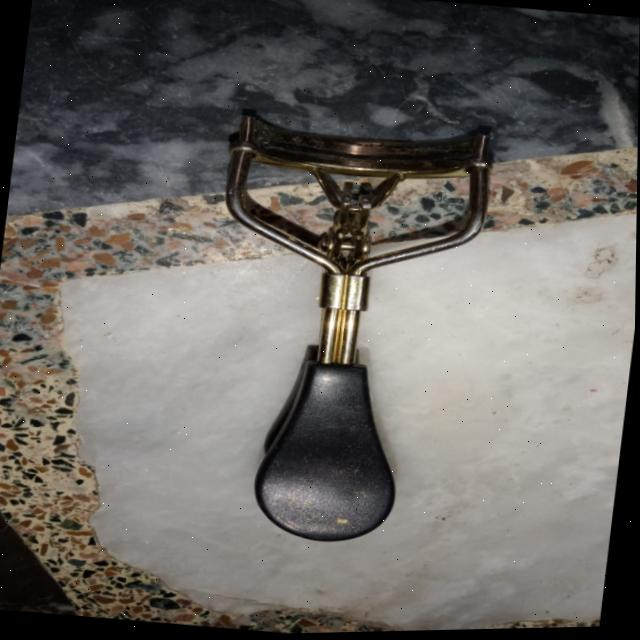eyelash curler: (132, 67, 580, 590)
